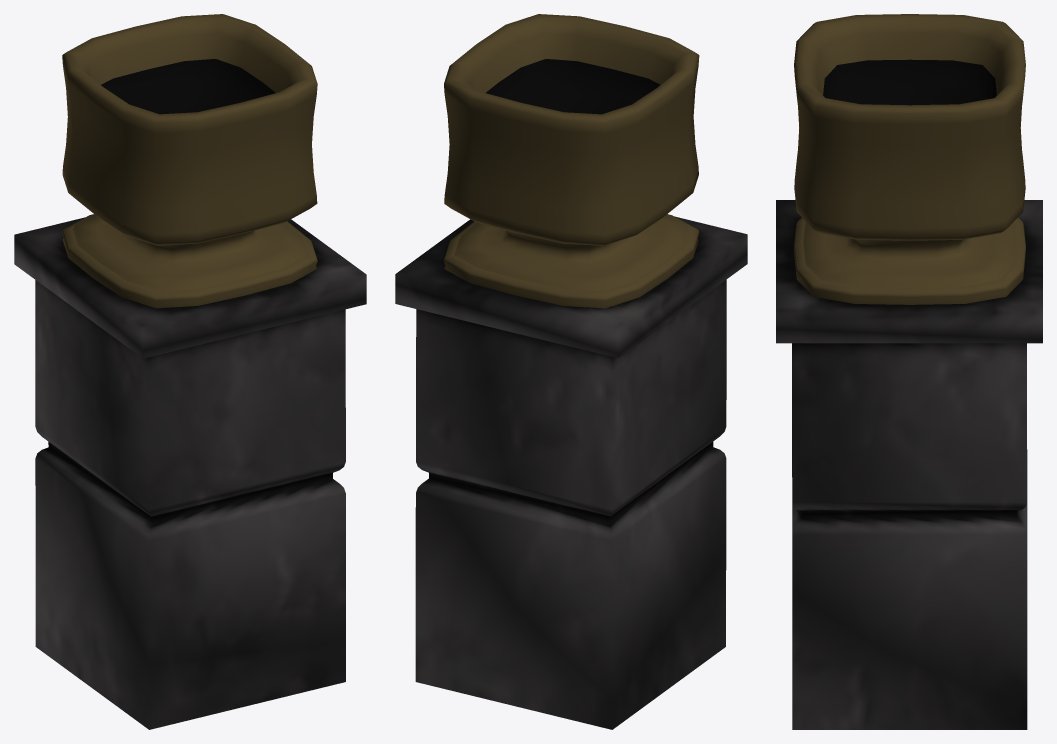
Rendered from Ilumination.fbx.
3 renders of one model, left to right at view 1: azimuth 30°, elevation 25°; view 2: azimuth 150°, elevation 25°; view 3: azimuth 270°, elevation 25°, orthographic. The views are drawn at different scales.
Parts seen in each view (by area): view 1: Ilumination_1; view 2: Ilumination_1; view 3: Ilumination_1.
Part boxes in pixels (x1,y1,x2,y2): Ilumination_1: (14,14,366,729); Ilumination_1: (395,14,747,729); Ilumination_1: (776,14,1042,729).
Size of the model in its own units: 85.86 by 220 by 85.85.
